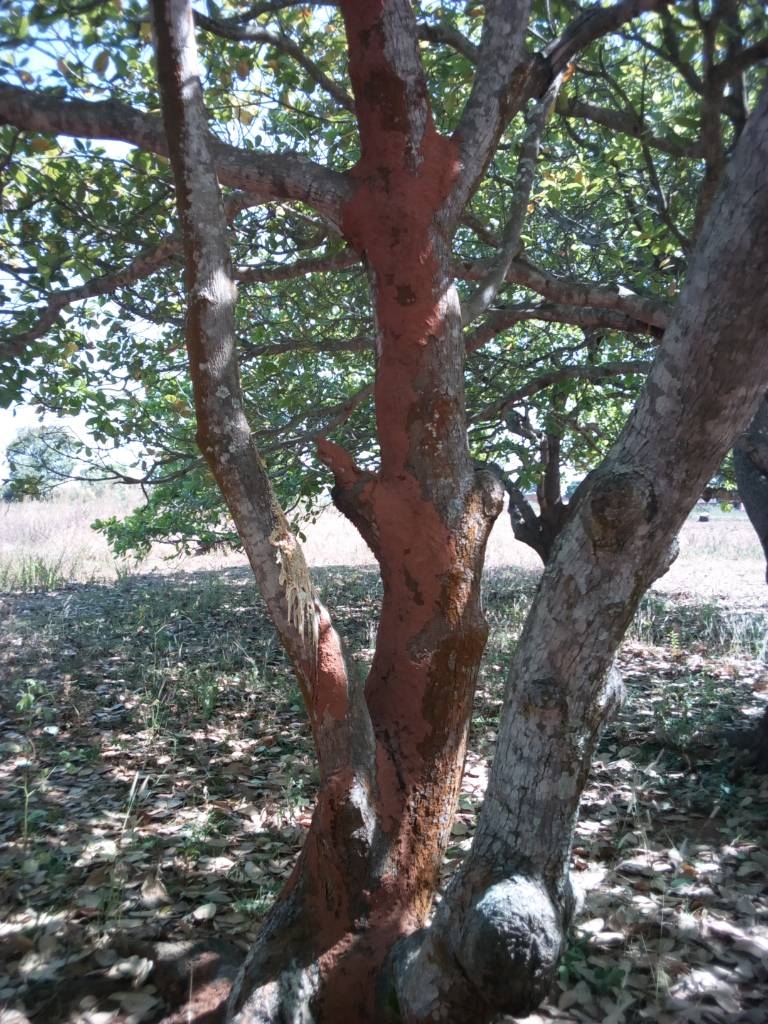Termites: (341, 152, 475, 902)
